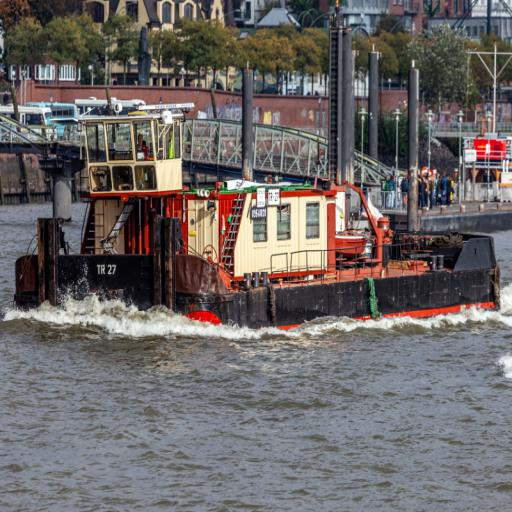tugboat: (11, 82, 507, 349)
